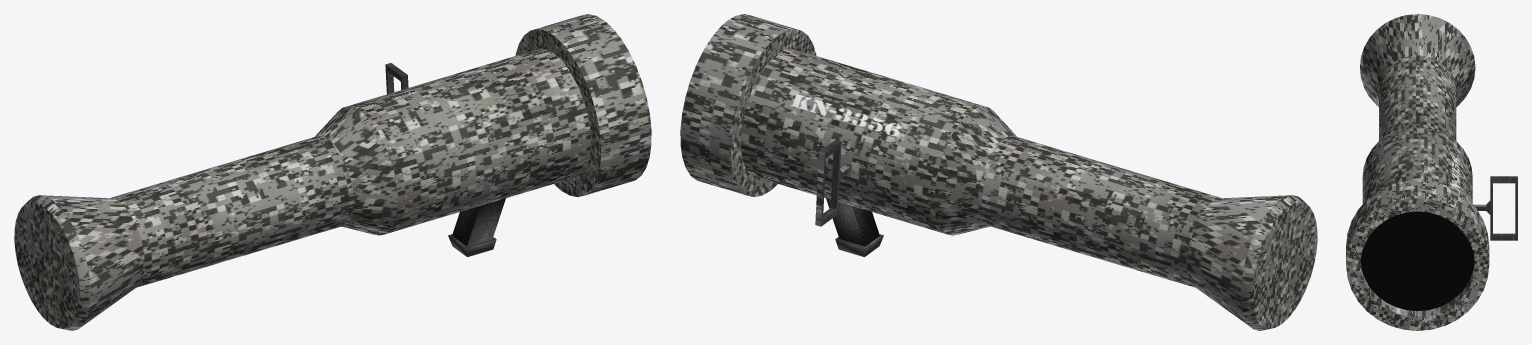
File: launcher_000002.obj
3 renders of one model, left to right at view 1: azimuth 30°, elevation 25°; view 2: azimuth 150°, elevation 25°; view 3: azimuth 270°, elevation 25°, orthographic. The views are drawn at different scales.
Visible parts, largest first — view 1: Cylinder; view 2: Cylinder; view 3: Cylinder.
Boxes of the visible parts, left/top/right/bottom form: Cylinder: left=14, top=14, right=651, bottom=330; Cylinder: left=680, top=14, right=1317, bottom=330; Cylinder: left=1346, top=14, right=1517, bottom=330.
Size of the model in its own units: 8.81 by 2.91 by 2.81.
Materials: 1 (1 with a texture image).
